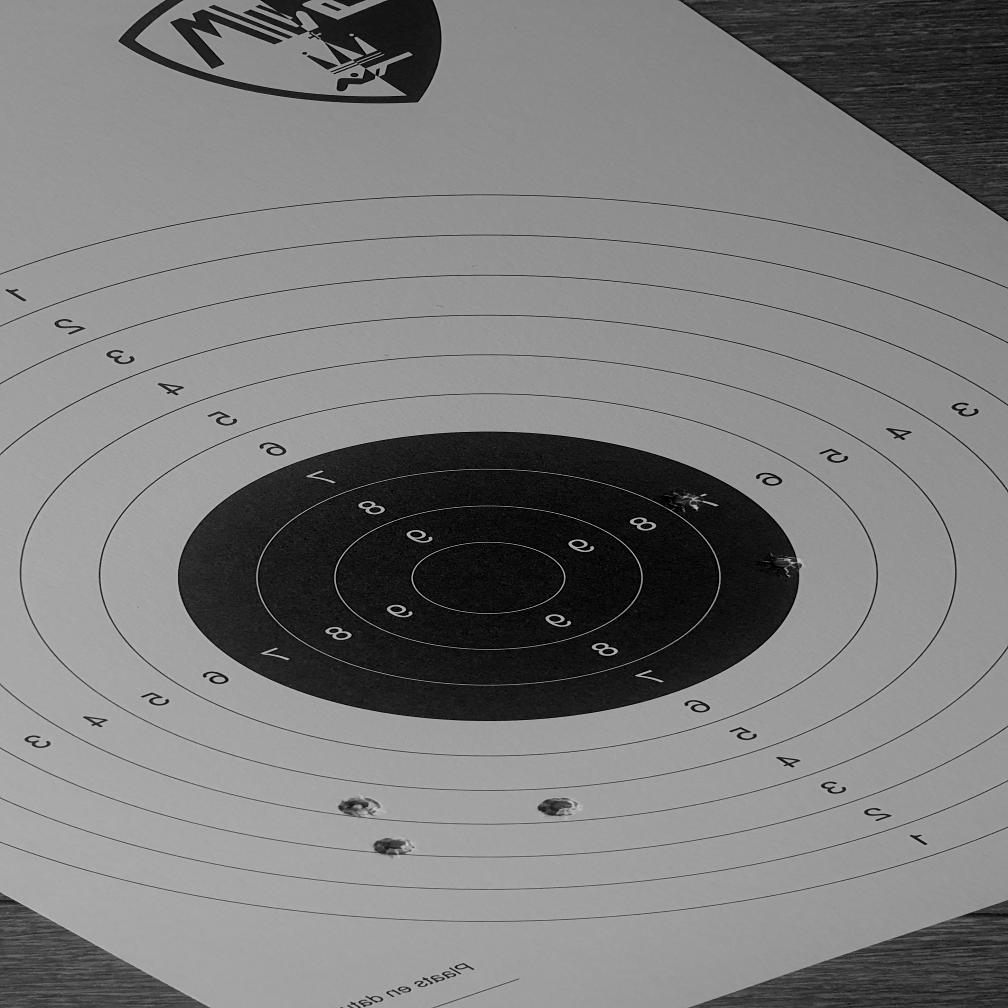3: (371, 837, 414, 857)
4: (334, 795, 386, 818), (536, 798, 580, 818)
7: (756, 551, 804, 578)
8: (659, 490, 706, 514)
Target: (0, 192, 1008, 926)
black_contour: (178, 432, 803, 722)
